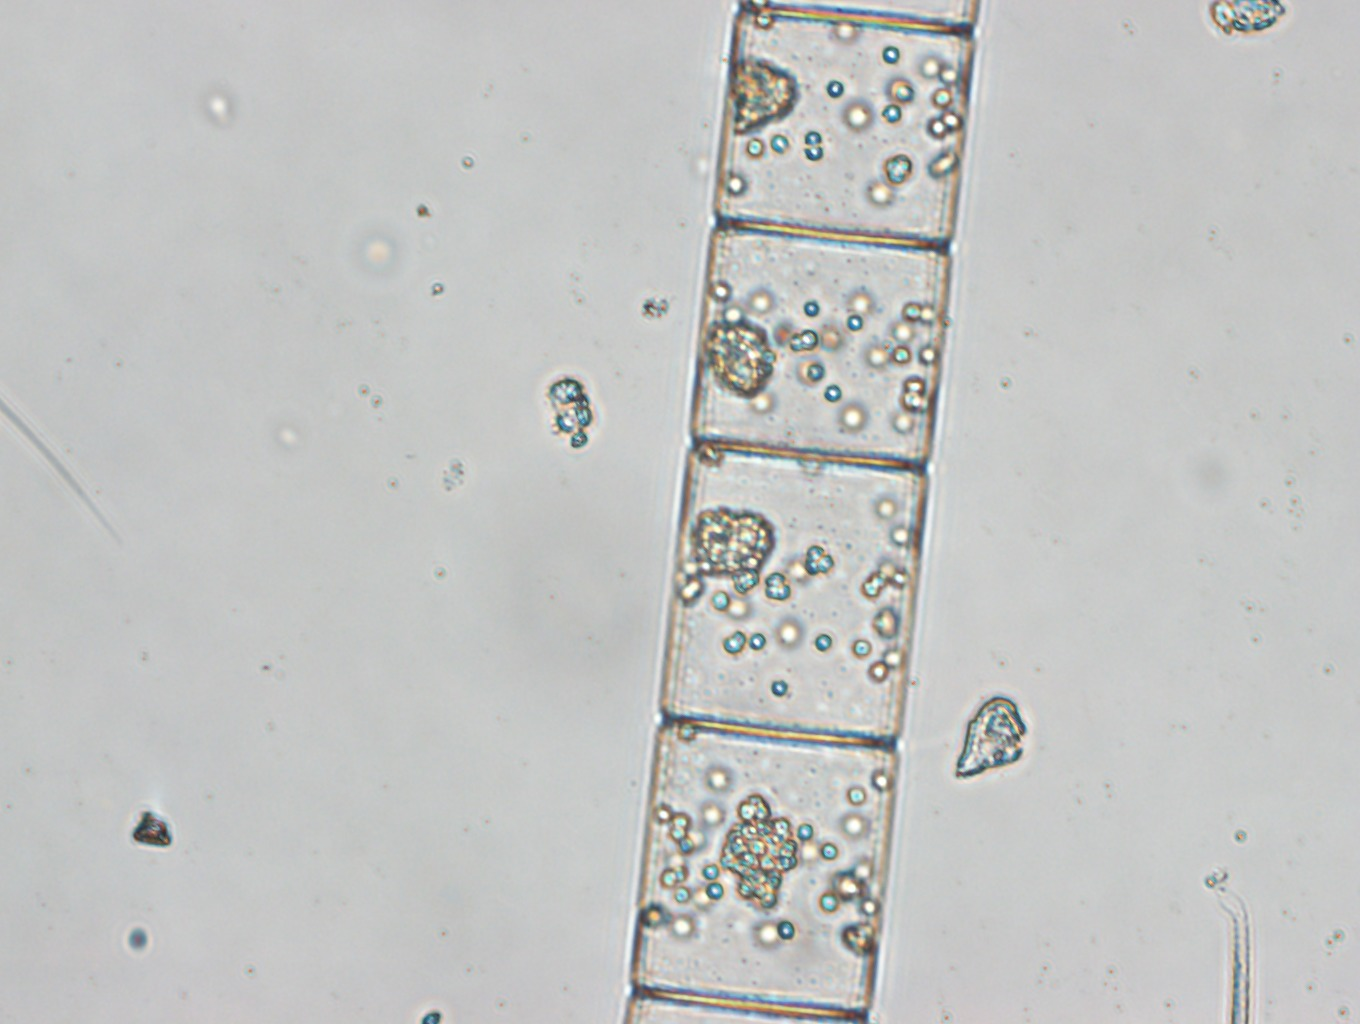guinardia flaccida: (622, 1, 980, 1024)
